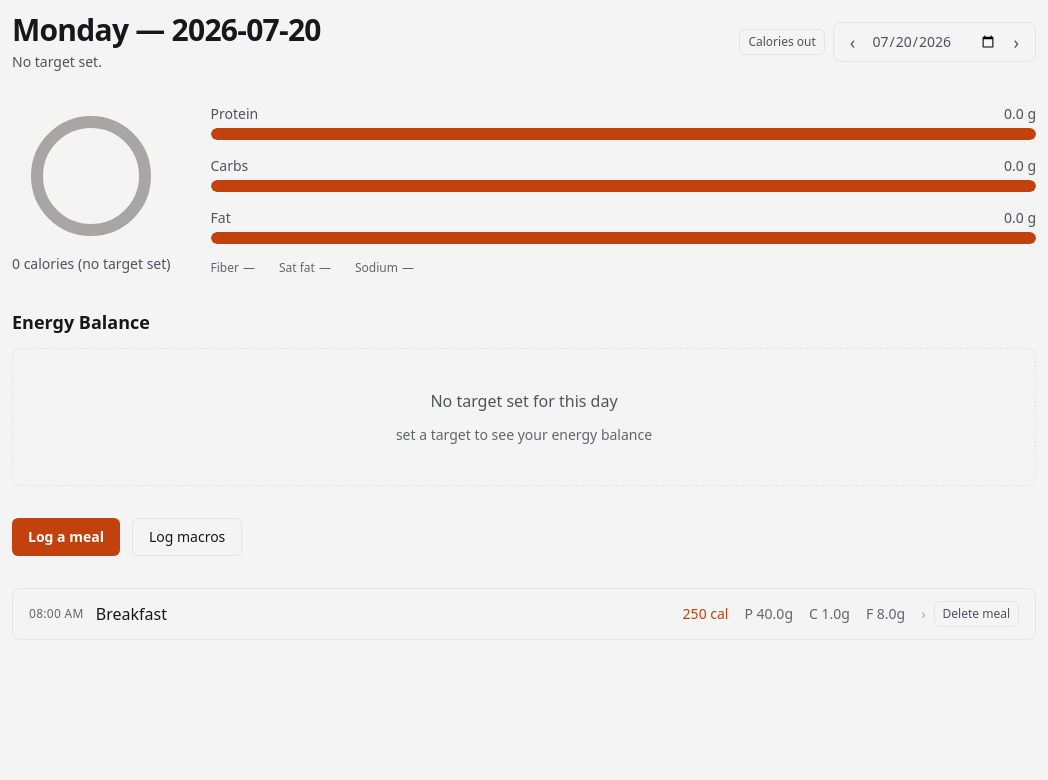
Test: DayView › shows per-meal P/C/F totals and per-food macros/quantity in the expanded detail
The image size is (1048, 780).
Click the button "08:00 AM Breakfast 250 cal P 40.0g C 1.0g F 8.0g ›".
click(56, 614)  # box [29,602,926,626]
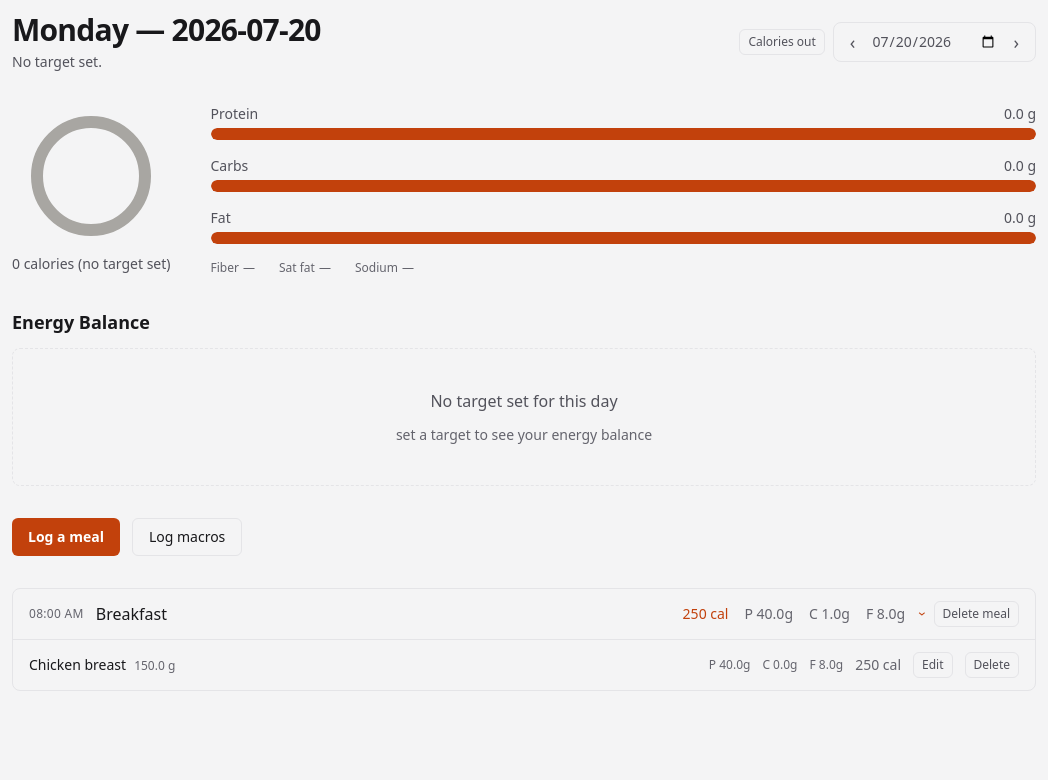
Check: the text "150.0 g" is shown, box [134,658,175,674]
